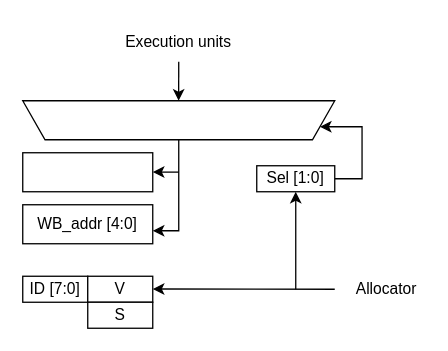
Some shapes in this 448 by 351 pixel diagram are drawn without their labels. The centre of each missing label's shape, as x and y in pixels:
Data [31:0]: [87,171]
Multiplexer: [178,119]
